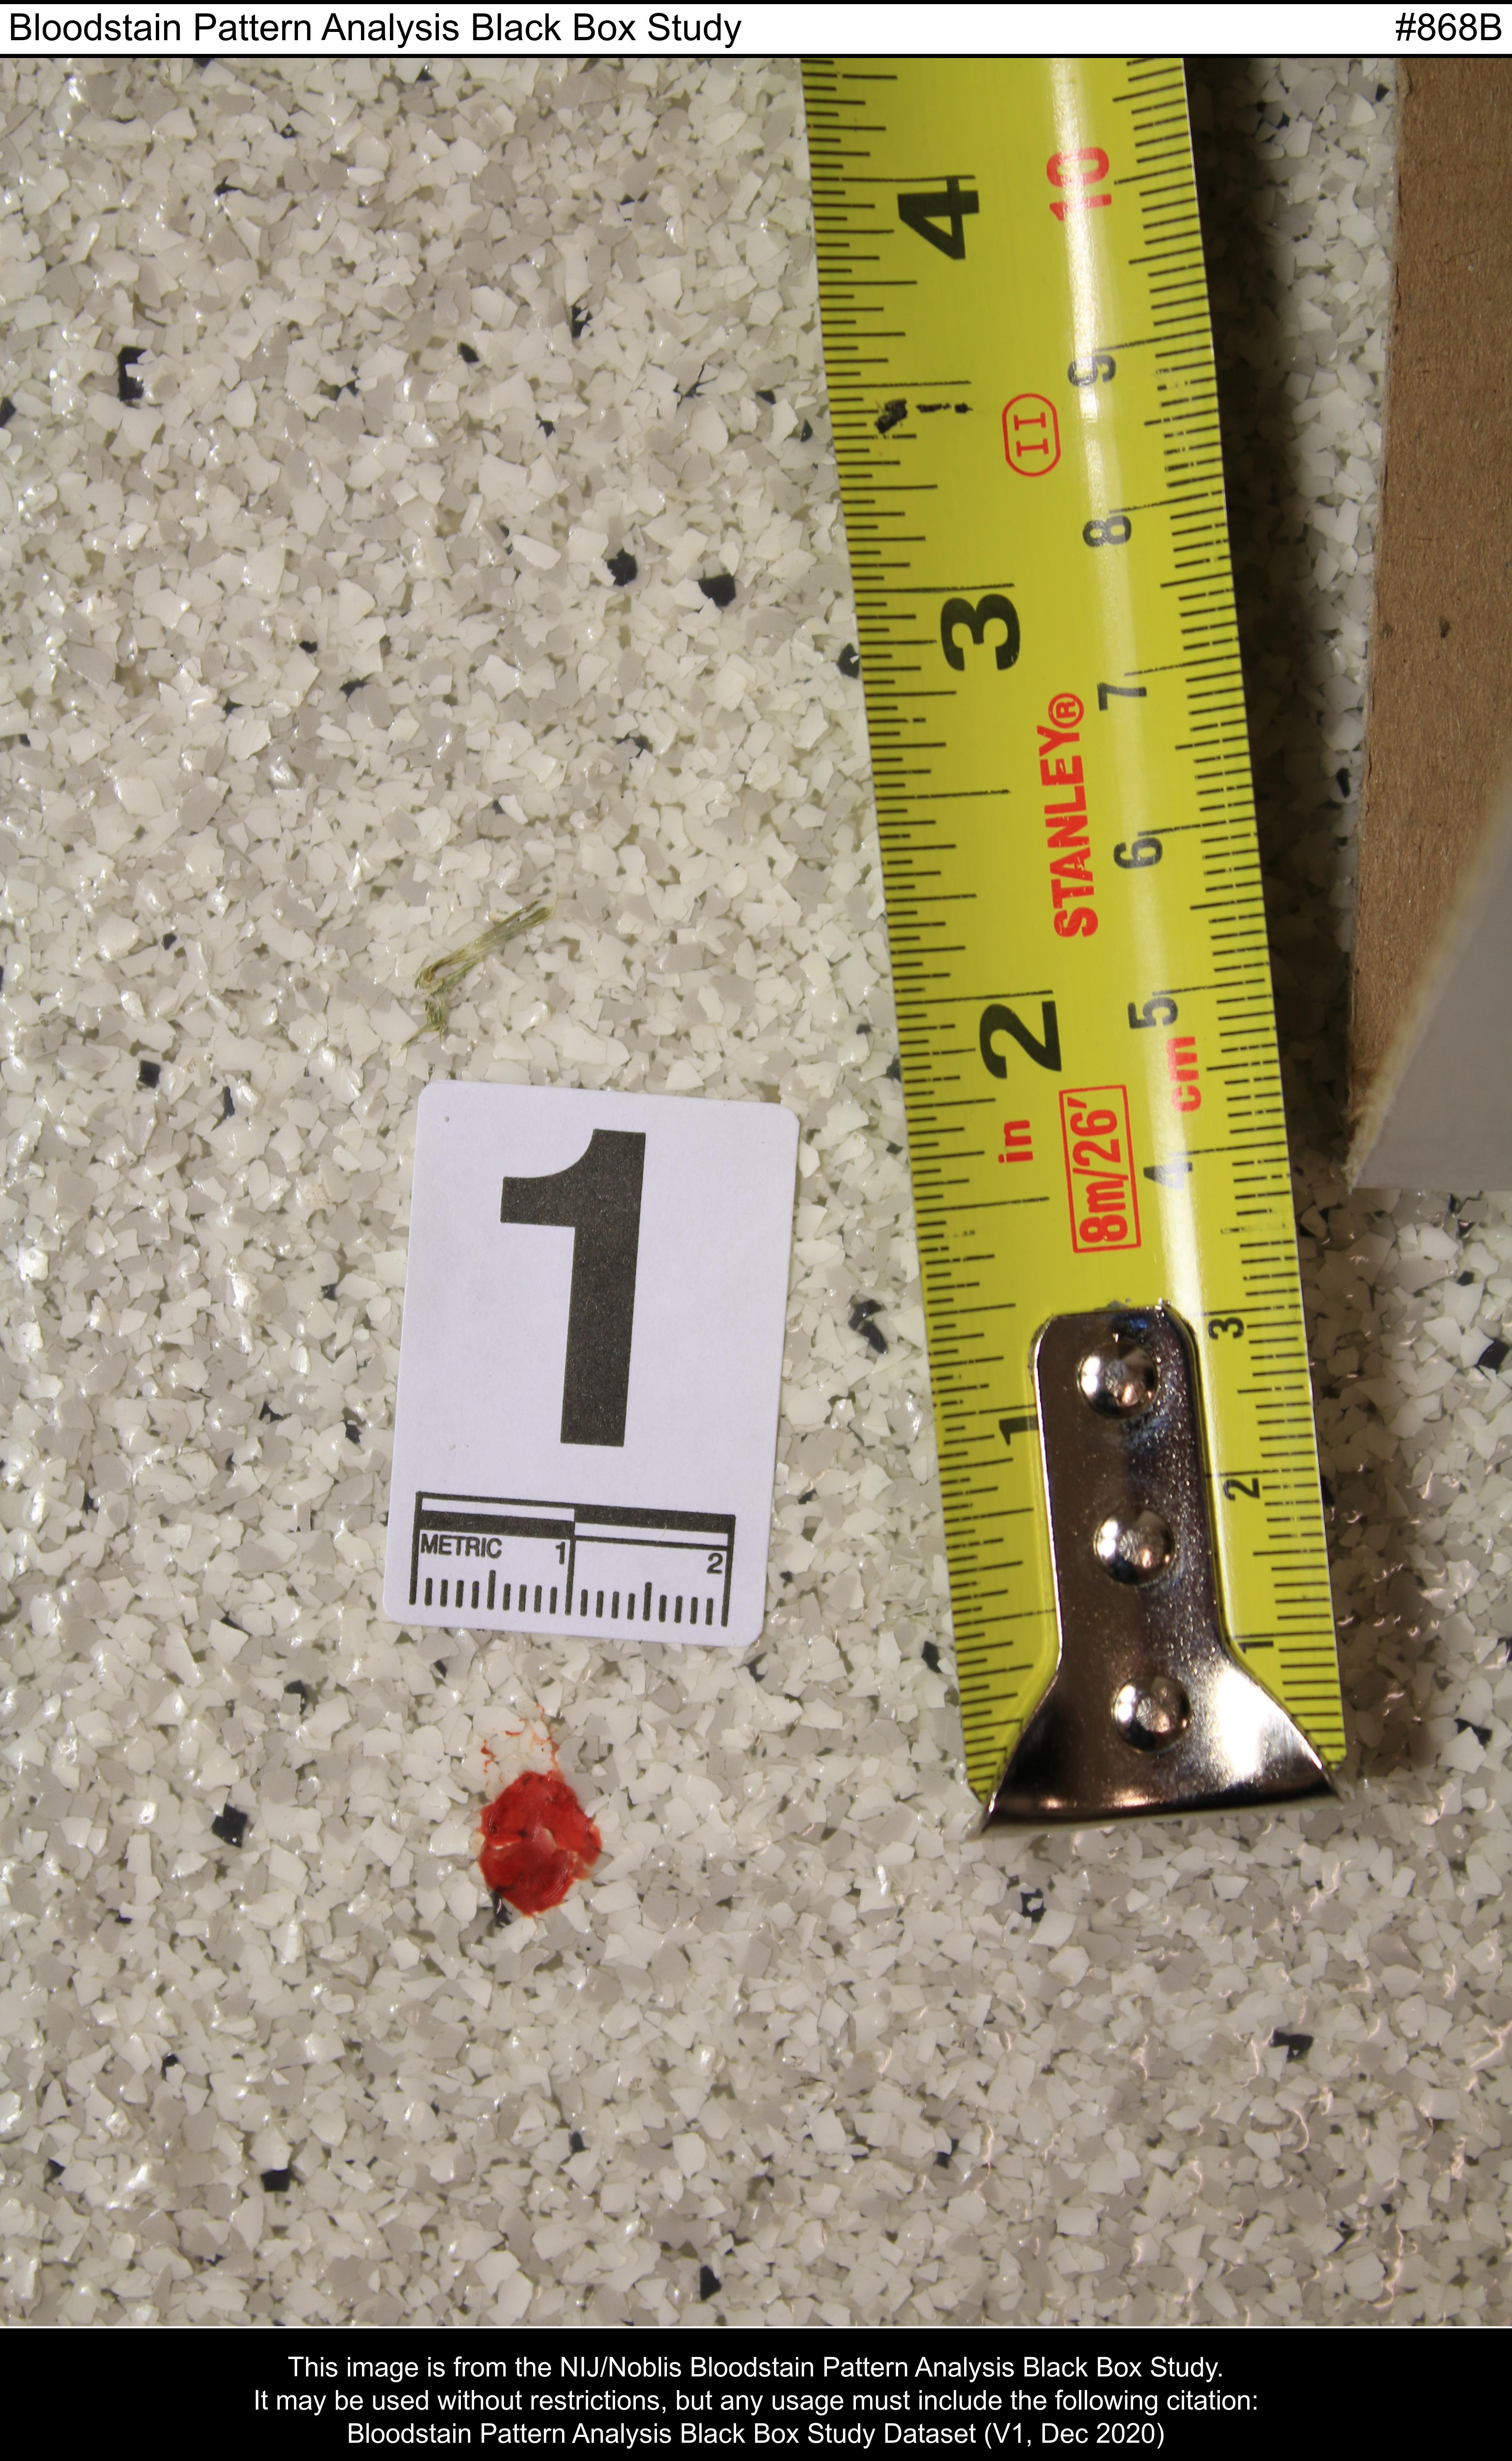Passive: (429, 1707, 645, 1949)
